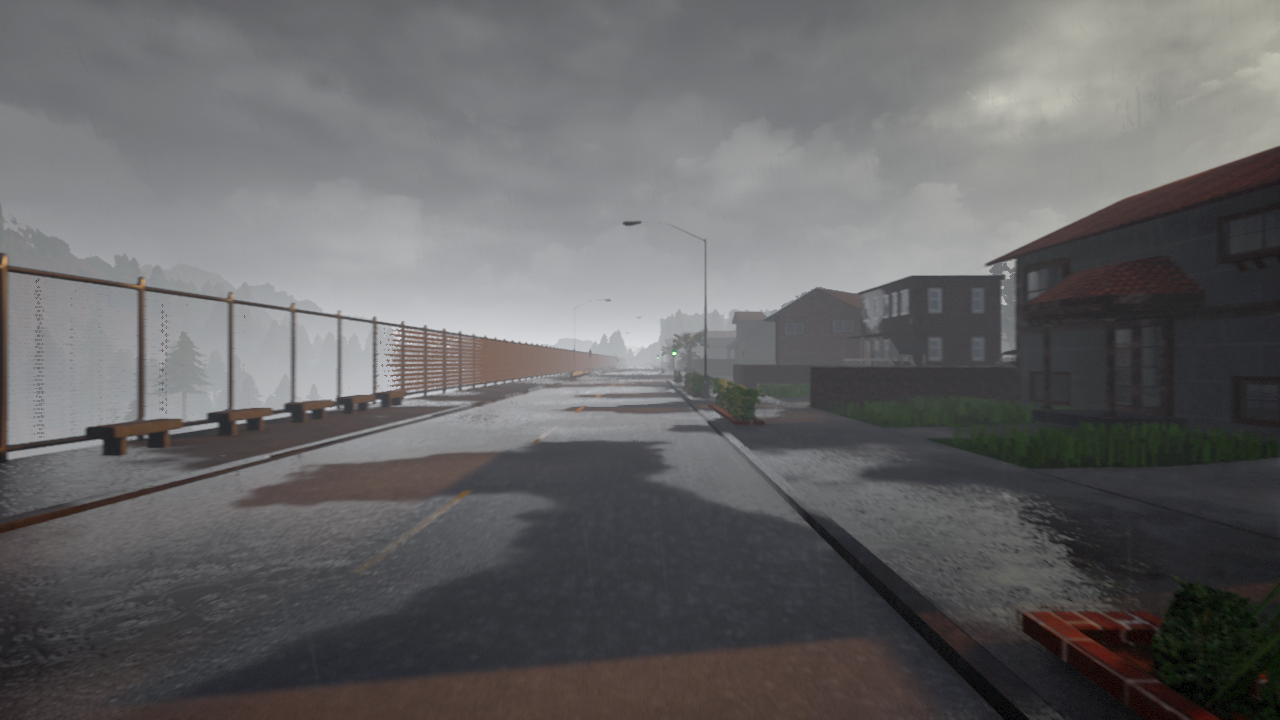green: (671, 344, 677, 357)
